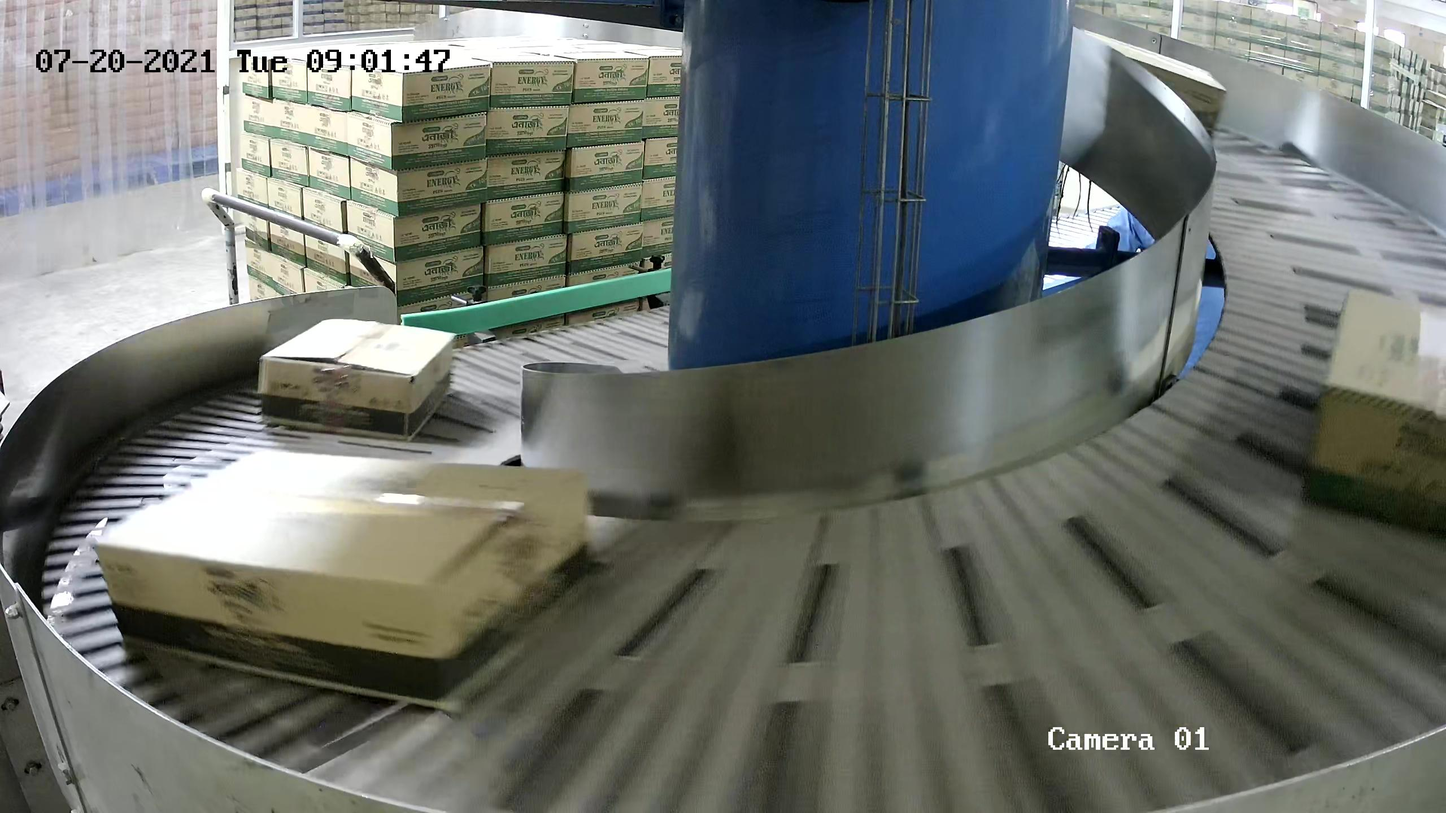Box: (90, 446, 599, 713), (1297, 289, 1446, 532), (258, 317, 457, 443), (1070, 26, 1230, 174)
